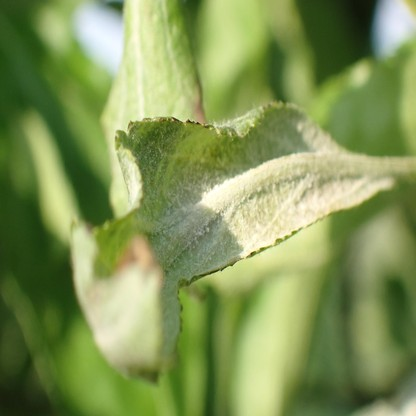powder: (116, 101, 390, 378)
